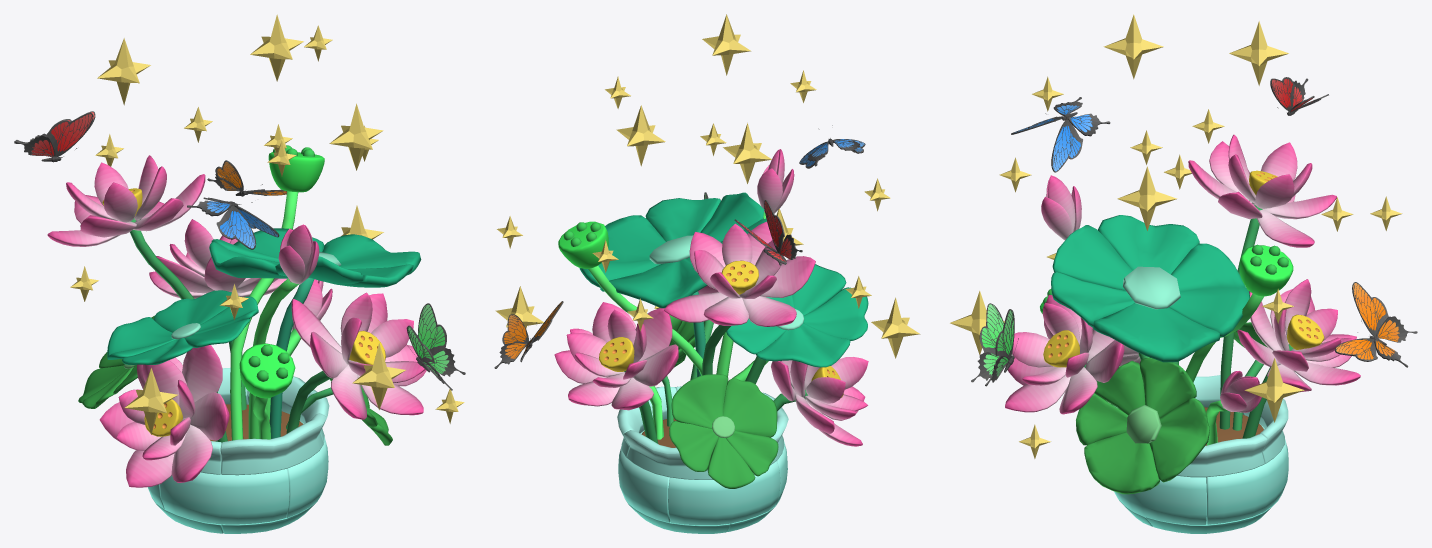
The model's file is Level_P_10.fbx.
The picture shows the model from 3 angles, left to right: view 1: azimuth 30°, elevation 25°; view 2: azimuth 150°, elevation 25°; view 3: azimuth 270°, elevation 25°; orthographic projection. The views are drawn at different scales.
Parts seen in each view (by area): view 1: Lotus.043, Lotus.044, Lotus.054, Lotus.104, butter fly.003, Lotus.081, Lotus.057, butter fly.002, Lotus.018, butter fly.004, Lotus.012, Lotus.103 (+56 smaller); view 2: Lotus.051, Lotus.104, Lotus.027, Lotus.018, Lotus.060, Lotus.061, Lotus.050, Lotus.020, Lotus.011, Lotus.047, Lotus.014, Lotus.062 (+45 smaller); view 3: Lotus.027, Lotus.104, Lotus.050, Lotus.002, Lotus.102, Lotus.098, Lotus.021, Lotus.057, butter fly.001, Lotus.020, Lotus.048, Lotus.099 (+42 smaller).
Boxes of the visible parts, <box> form: Lotus.043: <box>160,469,289,524</box>; Lotus.044: <box>220,413,326,475</box>; Lotus.054: <box>239,343,295,398</box>; Lotus.104: <box>322,234,421,274</box>; butter fly.003: <box>406,303,465,390</box>; Lotus.081: <box>230,191,298,440</box>; Lotus.057: <box>286,421,328,517</box>; butter fly.002: <box>187,197,279,249</box>; Lotus.018: <box>107,317,175,359</box>; butter fly.004: <box>14,111,95,162</box>; Lotus.012: <box>278,224,319,284</box>; Lotus.103: <box>154,290,238,332</box>; Lotus.051: <box>668,461,780,525</box>; Lotus.104: <box>579,215,665,287</box>; Lotus.027: <box>600,258,707,308</box>; Lotus.018: <box>756,323,850,367</box>; Lotus.060: <box>723,378,777,437</box>; Lotus.061: <box>671,374,728,428</box>; Lotus.050: <box>618,445,670,522</box>; Lotus.020: <box>645,198,720,241</box>; Lotus.011: <box>803,287,868,340</box>; Lotus.047: <box>623,430,713,479</box>; Lotus.014: <box>558,221,608,268</box>; Lotus.062: <box>669,421,718,471</box>; Lotus.027: <box>1169,243,1249,336</box>; Lotus.104: <box>1093,303,1219,362</box>; Lotus.050: <box>1206,439,1288,524</box>; Lotus.002: <box>1098,215,1199,274</box>; Lotus.102: <box>1084,432,1159,494</box>; Lotus.098: <box>1149,398,1209,482</box>; Lotus.021: <box>1052,225,1132,290</box>; Lotus.057: <box>1114,476,1206,524</box>; butter fly.001: <box>1335,282,1417,367</box>; Lotus.020: <box>1051,271,1134,327</box>; Lotus.048: <box>1177,434,1267,477</box>; Lotus.099: <box>1139,358,1196,417</box>.
Bounding box in the file's own units: 13.95 × 19 × 16.13.
